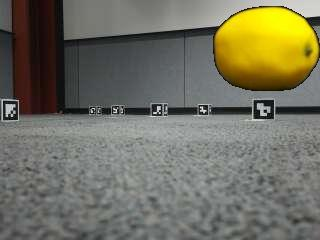lemon: (215, 6, 320, 90)
